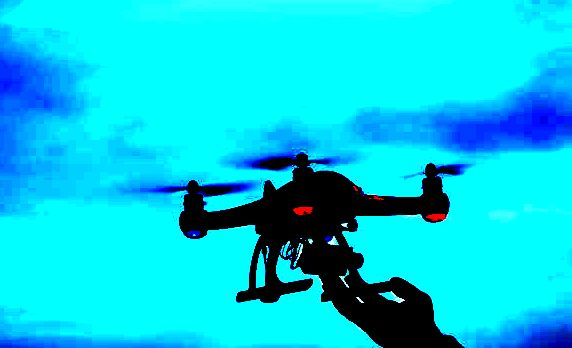Drone: (128, 144, 475, 242)
